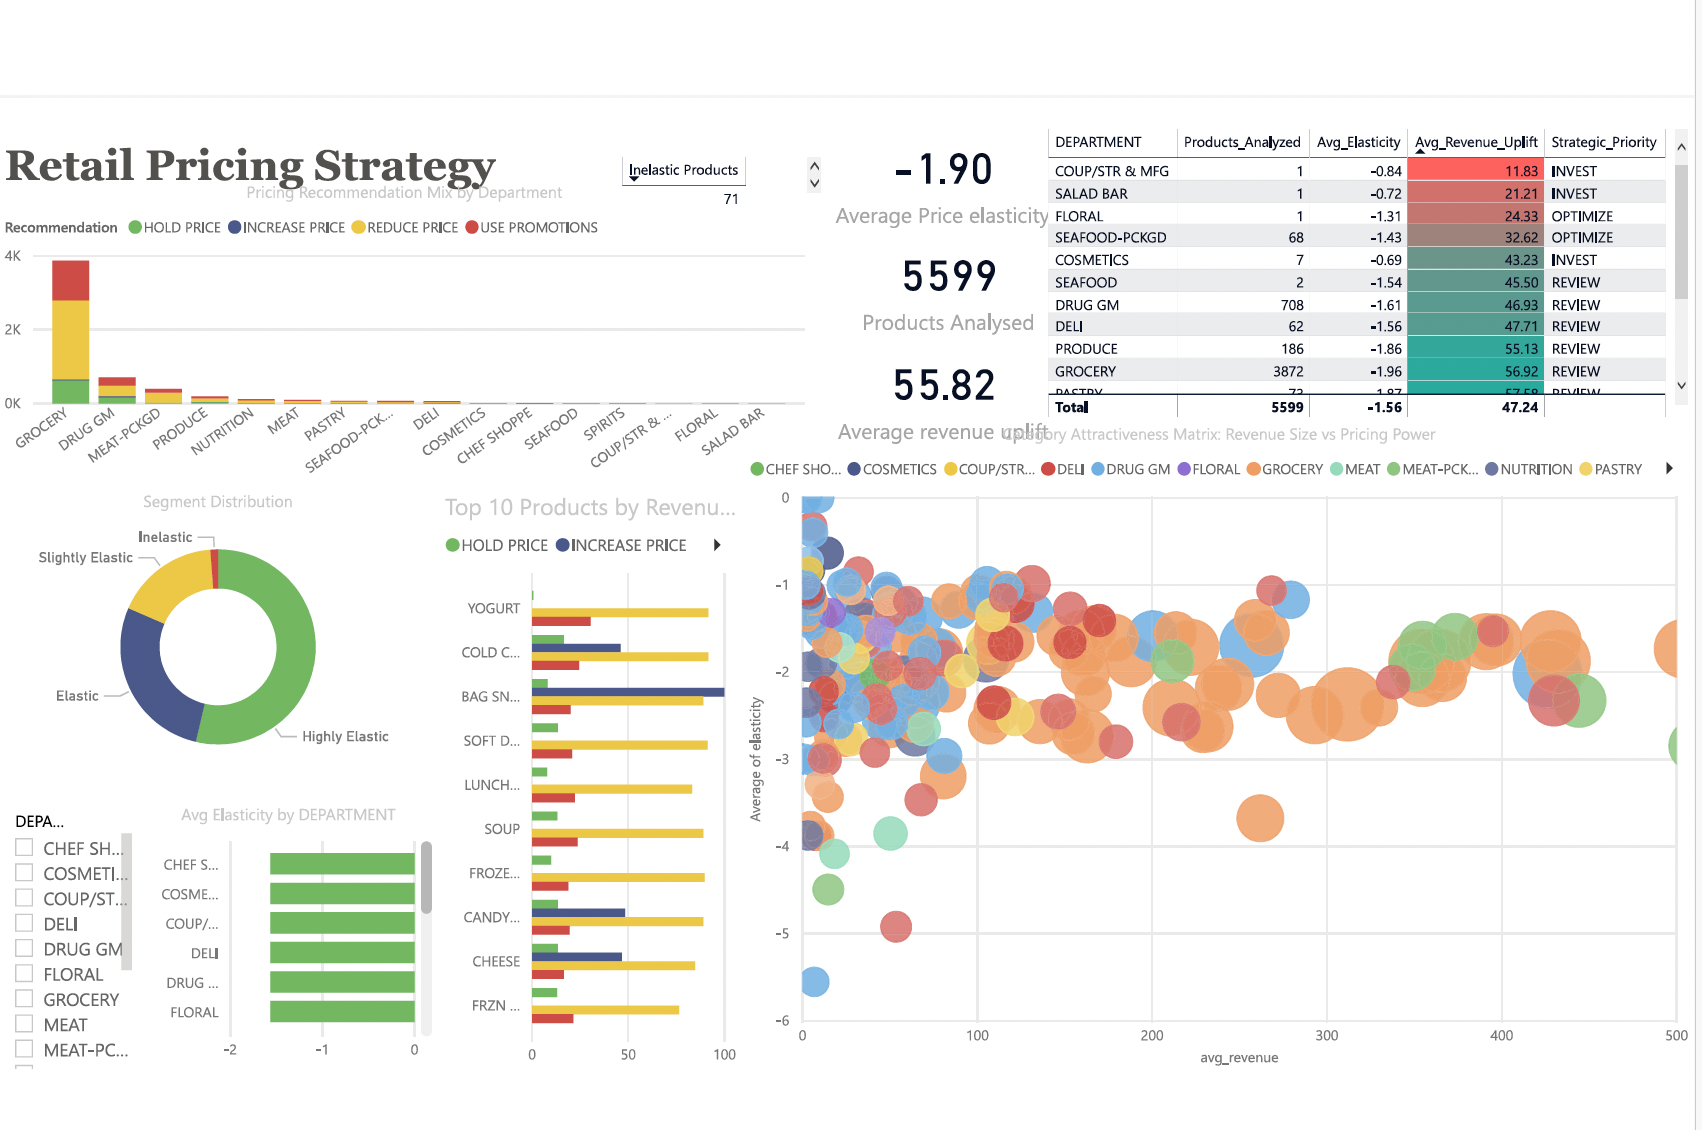

The page's visual inventory and layout, read from the dashboard file:
{"tool":"powerbi","page":{"name":"Page 1","canvas":[1280,720],"ordinal":0},"visuals":[{"type":"textbox","box":[0,9,383.3,95.8],"z":0},{"type":"card","fields":{"Values":["CountNonNull(elasticity_output.PRODUCT_ID)"]},"box":[640,82.2,154,82.2],"z":1000},{"type":"card","fields":{"Values":["Avg(elasticity_output.elasticity)"]},"box":[602.6,1.5,219.8,82.2],"z":2000},{"type":"card","fields":{"Values":["Avg(elasticity_output.revenue_uplift_pct)"]},"box":[625,164.5,176.4,82.2],"z":3000},{"type":"tableEx","fields":{"Values":["elasticity_output.Inelastic Products"]},"box":[465,20.9,160,44.9],"z":4000},{"type":"clusteredBarChart","title":"Avg Elasticity by DEPARTMENT","fields":{"Category":["elasticity_output.DEPARTMENT"],"Y":["Avg(dept_summary.Avg_Elasticity)"]},"box":[106.2,512.9,225.8,203.4],"z":5000},{"type":"donutChart","title":"Segment Distribution","fields":{"Category":["elasticity_output.Segment"],"Y":["CountNonNull(elasticity_output.PRODUCT_ID)"]},"box":[0,276.6,332,221.3],"z":6000},{"type":"scatterChart","title":"Category Attractiveness Matrix: Revenue Size vs Pricing Power","fields":{"Size":["Sum(elasticity_output.revenue_uplift_pct)"],"Category":["elasticity_output.COMMODITY_DESC"],"Series":["elasticity_output.DEPARTMENT"],"X":["Sum(elasticity_output.avg_revenue)"],"Y":["Avg(elasticity_output.elasticity)"]},"box":[562.2,225.8,717.8,490.5],"z":7000},{"type":"tableEx","fields":{"Values":["dept_summary.DEPARTMENT","Sum(dept_summary.Products_Analyzed)","dept_summary.Avg_Elasticity","Avg(dept_summary.Avg_Revenue_Uplift)","dept_summary.Strategic_Priority"]},"box":[786.5,0,493.5,225.8],"z":8000},{"type":"slicer","fields":{"Values":["dept_summary.DEPARTMENT"]},"box":[0,512.9,106.2,204.9],"z":9000},{"type":"clusteredBarChart","title":"Top 10 Products by Revenue Uplift Potential","fields":{"Category":["elasticity_output.COMMODITY_DESC"],"Y":["Avg(elasticity_output.revenue_uplift_pct)"],"Series":["elasticity_output.Recommendation"]},"box":[332,276.6,230.3,442.6],"z":10000},{"type":"columnChart","title":"Pricing Recommendation Mix by Department","fields":{"Category":["elasticity_output.DEPARTMENT"],"Y":["CountNonNull(elasticity_output.PRODUCT_ID)"],"Series":["elasticity_output.Recommendation"]},"box":[0,43.4,613.1,233.3],"z":11000}]}

Visuals, with their boxes on the page's 1280x720 design canvas (x1, y1, x2, y2). These are canvas units, not pixel positions in the 1702x1130 screenshot, which may show the page scaled, cropped or inside an application window:
textbox: crop(0, 9, 383, 105)
card - CountNonNull(elasticity_output.PRODUCT_ID): crop(640, 82, 794, 164)
card - Avg(elasticity_output.elasticity): crop(603, 2, 822, 84)
card - Avg(elasticity_output.revenue_uplift_pct): crop(625, 164, 801, 247)
tableEx - elasticity_output.Inelastic Products: crop(465, 21, 625, 66)
"Avg Elasticity by DEPARTMENT" clusteredBarChart: crop(106, 513, 332, 716)
"Segment Distribution" donutChart: crop(0, 277, 332, 498)
"Category Attractiveness Matrix: Revenue Size vs Pricing Power" scatterChart: crop(562, 226, 1280, 716)
tableEx - dept_summary.DEPARTMENT x Sum(dept_summary.Products_Analyzed): crop(786, 0, 1280, 226)
slicer - dept_summary.DEPARTMENT: crop(0, 513, 106, 718)
"Top 10 Products by Revenue Uplift Potential" clusteredBarChart: crop(332, 277, 562, 719)
"Pricing Recommendation Mix by Department" columnChart: crop(0, 43, 613, 277)
